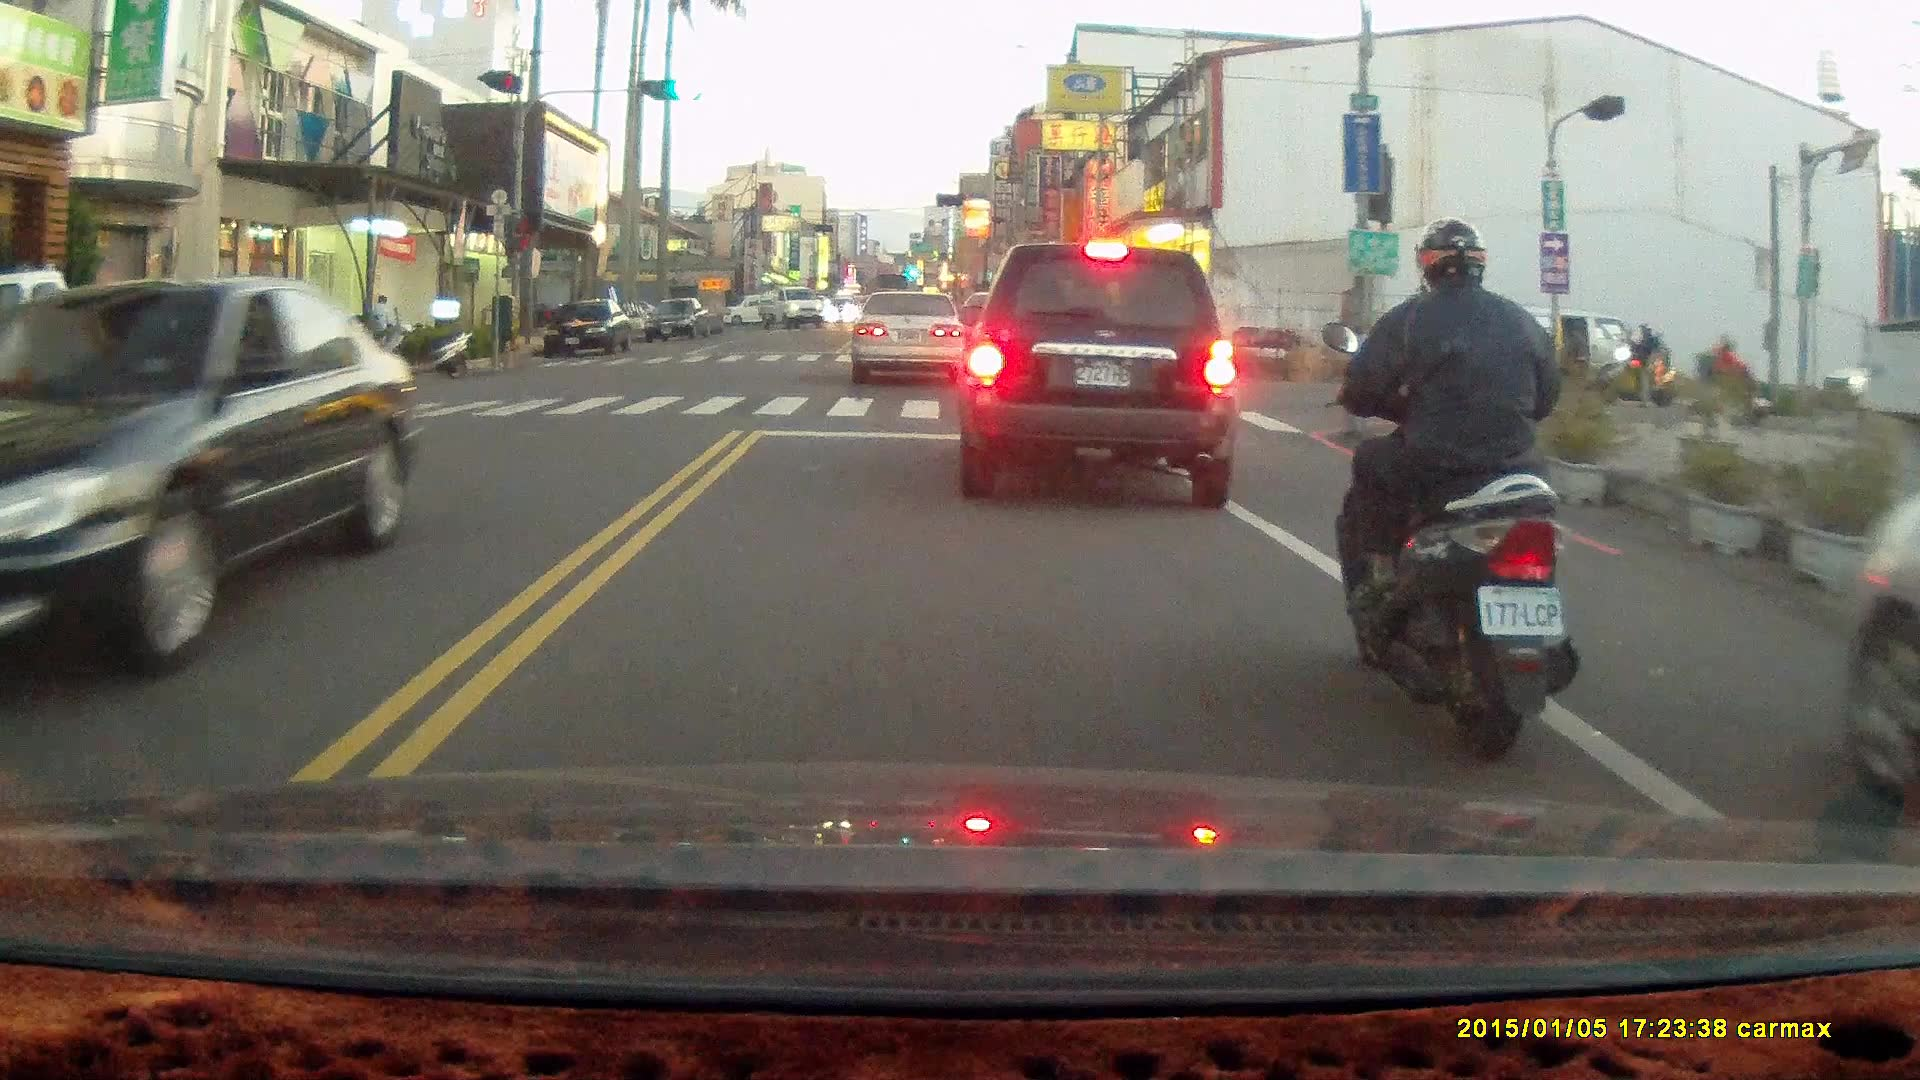pedestrian: (367, 292, 397, 361), (1564, 319, 1587, 387)
rider: (1321, 213, 1583, 759), (1687, 333, 1772, 430), (1604, 317, 1674, 406)
vehicle: (1, 276, 430, 699), (960, 237, 1240, 508), (1840, 495, 1920, 822), (855, 291, 967, 388), (545, 298, 639, 354), (643, 297, 710, 344)
